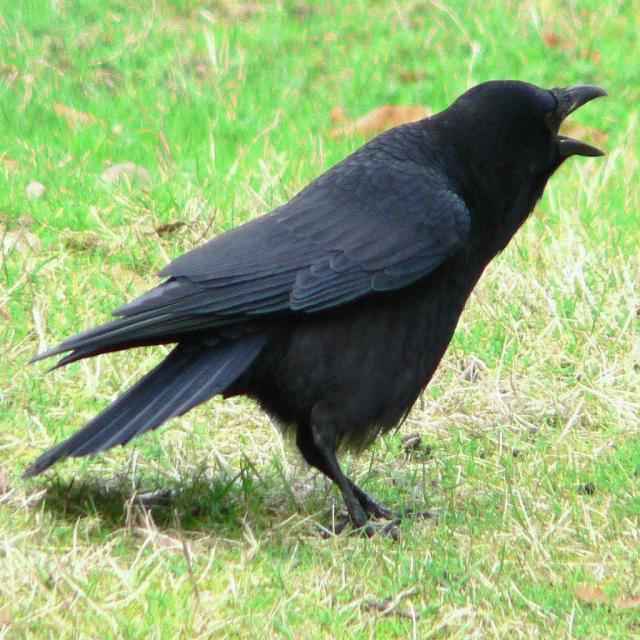crow: (160, 73, 614, 495)
